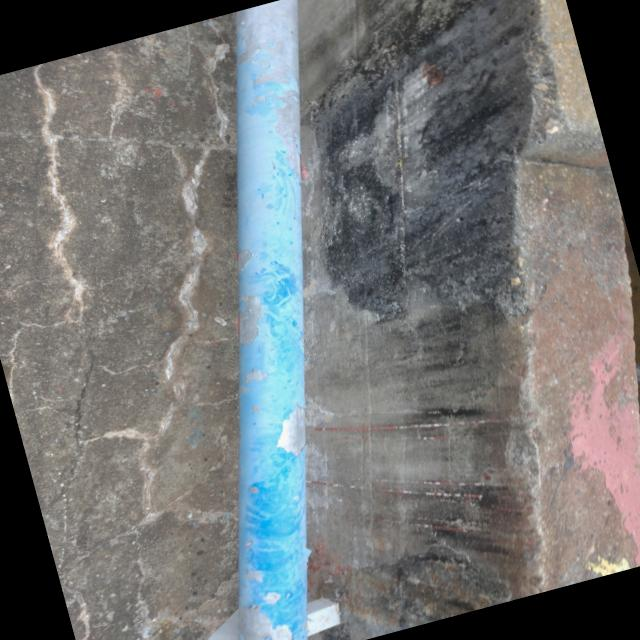gas: (65, 0, 462, 640)
